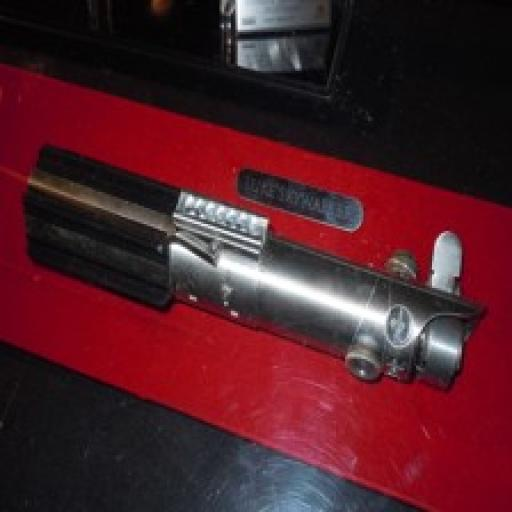lightsaber: (22, 139, 478, 387)
